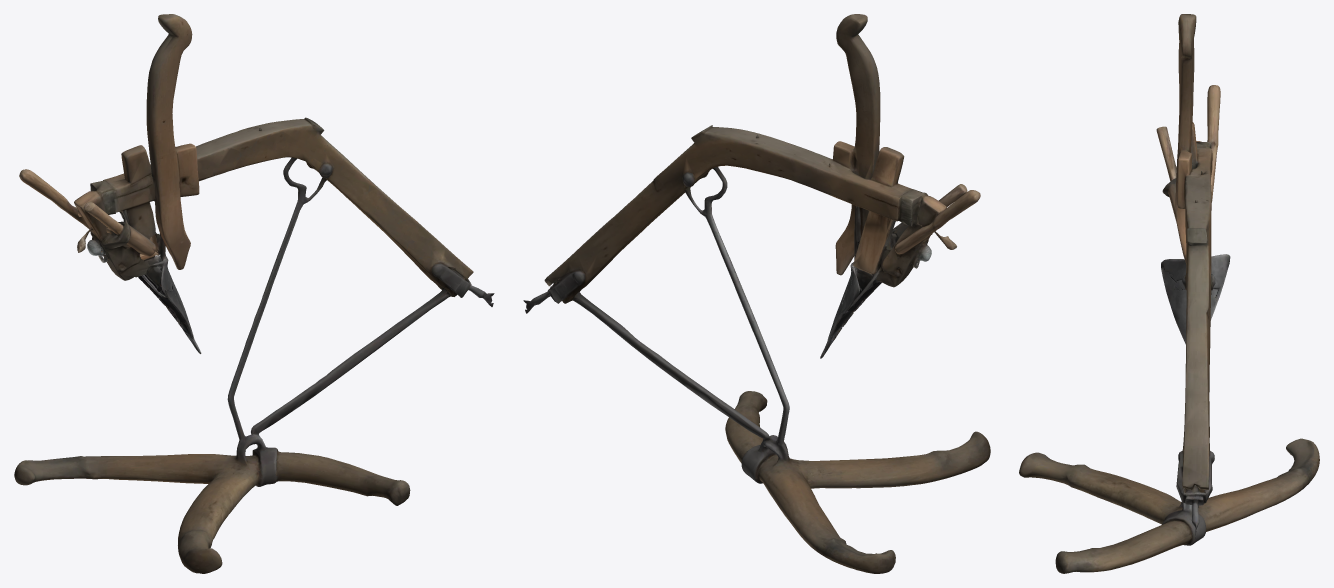
File: pflug.glb
The picture shows the model from 3 angles, left to right: view 1: azimuth 30°, elevation 25°; view 2: azimuth 150°, elevation 25°; view 3: azimuth 270°, elevation 25°; orthographic projection.
Visible parts, largest first — view 1: geometry_0; view 2: geometry_0; view 3: geometry_0.
Boxes of the visible parts, left/top/right/bottom form: geometry_0: left=14, top=14, right=494, bottom=573; geometry_0: left=523, top=14, right=990, bottom=573; geometry_0: left=1019, top=14, right=1319, bottom=573.
Bounding box in the file's own units: 0.9887 × 0.9998 × 0.5624.
Materials: 1 (1 with a texture image).
